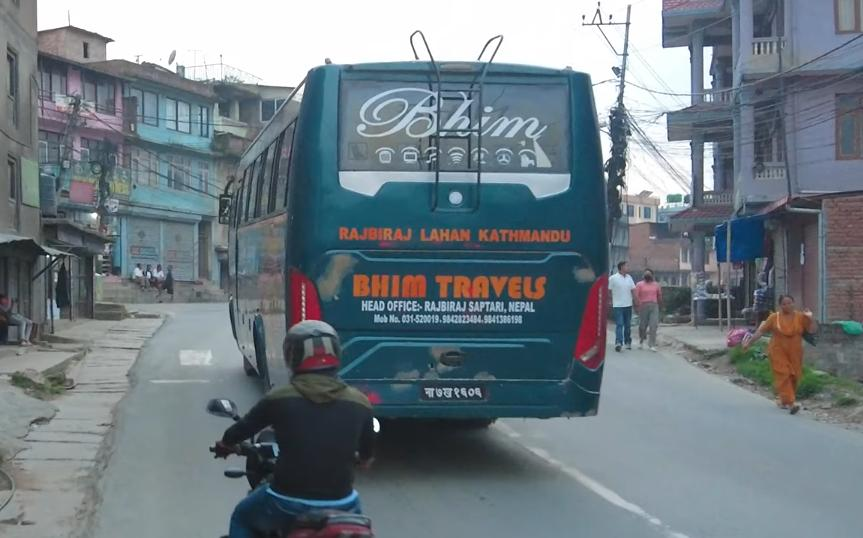bus: (214, 53, 610, 436)
